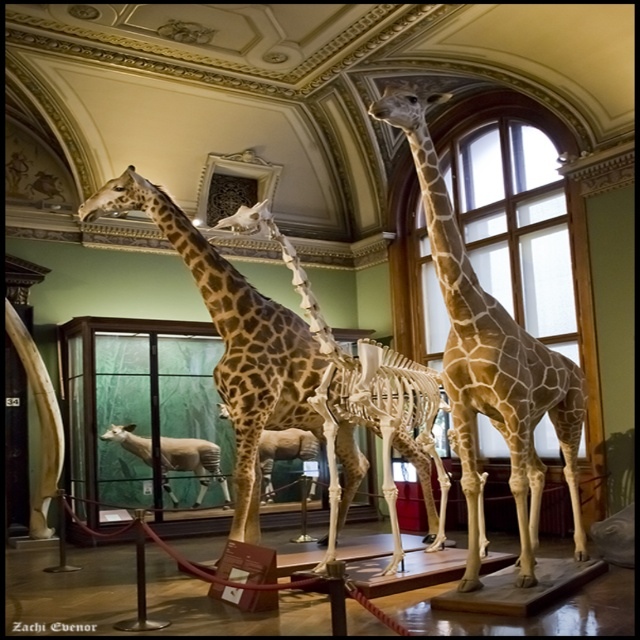Giraffe: (92, 166, 438, 554), (364, 80, 590, 591)
